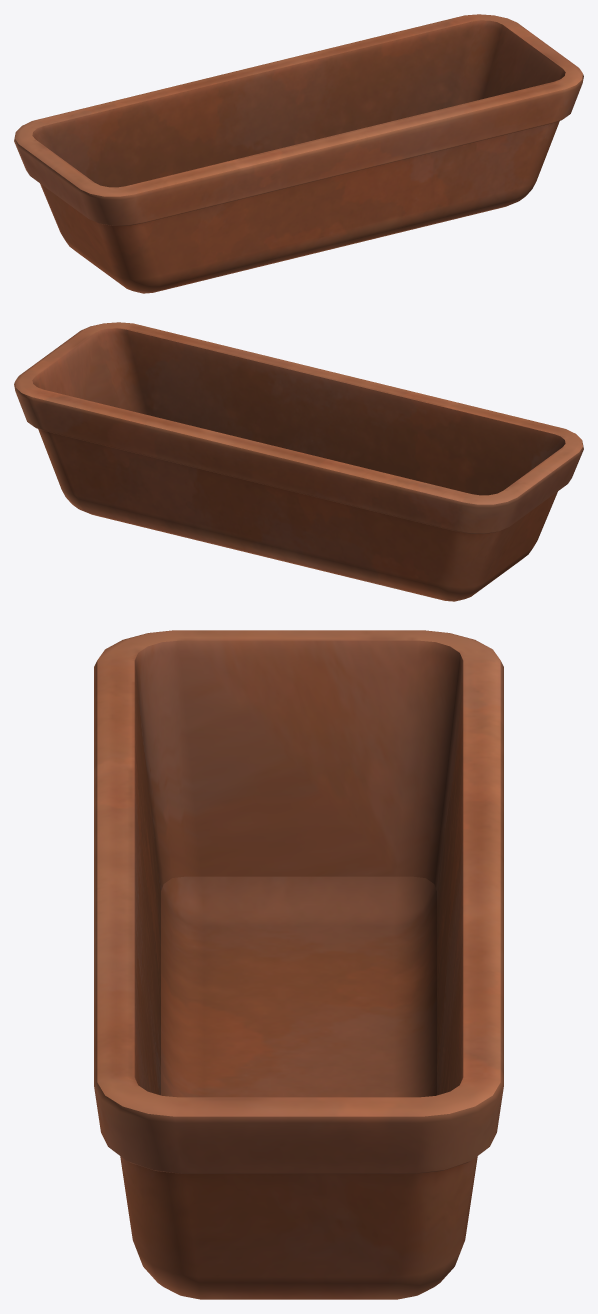
Rendered from SM_Pot_03.fbx.
The picture shows the model from 3 angles, top to bottom: view 1: azimuth 30°, elevation 25°; view 2: azimuth 150°, elevation 25°; view 3: azimuth 270°, elevation 25°; orthographic projection. The views are drawn at different scales.
Parts seen in each view (by area): view 1: SM_Pot_03_LOD0; view 2: SM_Pot_03_LOD0; view 3: SM_Pot_03_LOD0.
Part boxes in pixels (x1=…): SM_Pot_03_LOD0: x1=14, y1=14, x2=583, y2=293; SM_Pot_03_LOD0: x1=14, y1=322, x2=583, y2=601; SM_Pot_03_LOD0: x1=94, y1=630, x2=503, y2=1299.
Bounding box in the file's own units: 48.47 × 17.21 × 11.68.
Materials: 1 (1 with a texture image).
